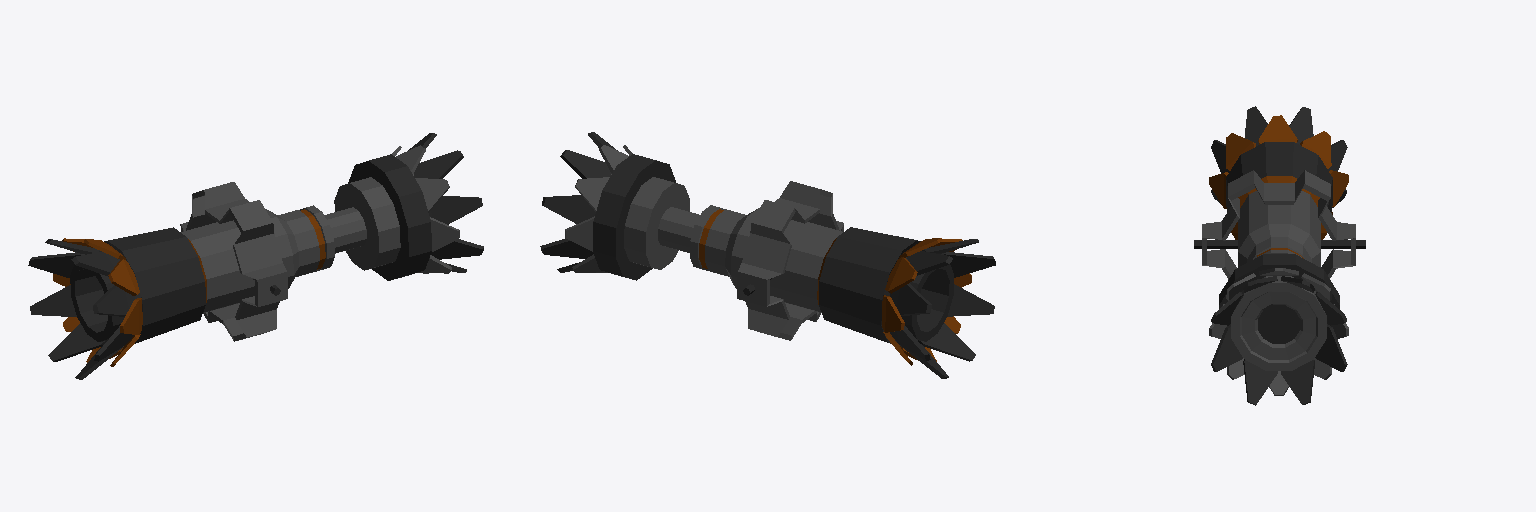
File: Props_Laser.obj
3 views of the same model, side by side, from view 1: azimuth 30°, elevation 25°; view 2: azimuth 150°, elevation 25°; view 3: azimuth 270°, elevation 25° (orthographic).
Visible parts, largest first — view 1: Props_Laser_Cylinder.208; view 2: Props_Laser_Cylinder.208; view 3: Props_Laser_Cylinder.208.
Boxes of the visible parts, box(x1,y1,x2,y2) form: Props_Laser_Cylinder.208: box(28, 133, 483, 379); Props_Laser_Cylinder.208: box(540, 132, 995, 378); Props_Laser_Cylinder.208: box(1194, 106, 1365, 405).
Size of the model in its own units: 3.84 by 1.29 by 1.46.